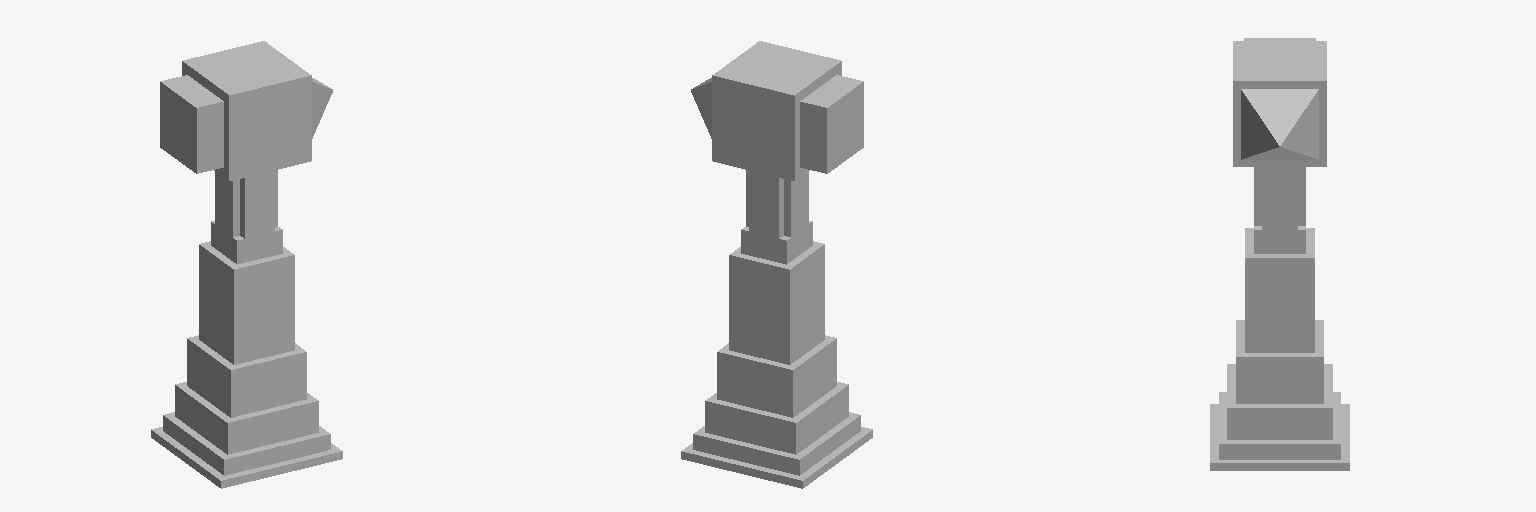
The model's file is pawn.obj.
3 renders of one model, left to right at view 1: azimuth 30°, elevation 25°; view 2: azimuth 150°, elevation 25°; view 3: azimuth 270°, elevation 25°, orthographic.
Parts seen in each view (by area): view 1: Cube_Cube.001; view 2: Cube_Cube.001; view 3: Cube_Cube.001.
Boxes of the visible parts, box(x1,y1,x2,y2) form: Cube_Cube.001: box(151, 41, 342, 488); Cube_Cube.001: box(681, 41, 872, 488); Cube_Cube.001: box(1210, 38, 1349, 470).
Bounding box in the file's own units: 0.4368 × 1.02 × 0.3421.